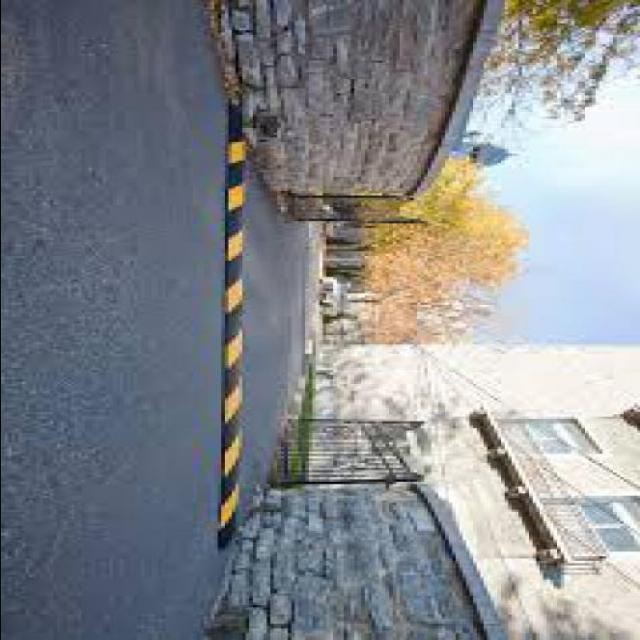Speed_Breaker: (219, 76, 250, 553), (219, 49, 248, 546)
